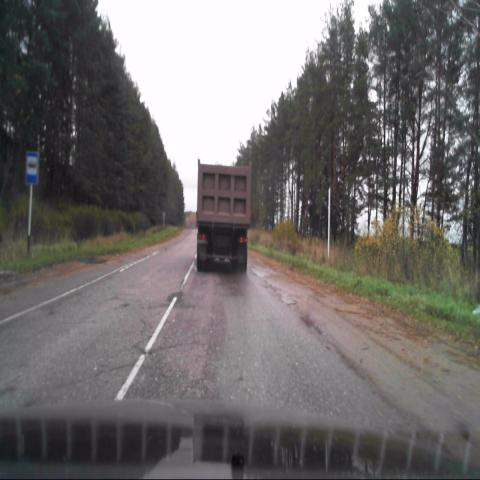5_16: (25, 149, 39, 186)
